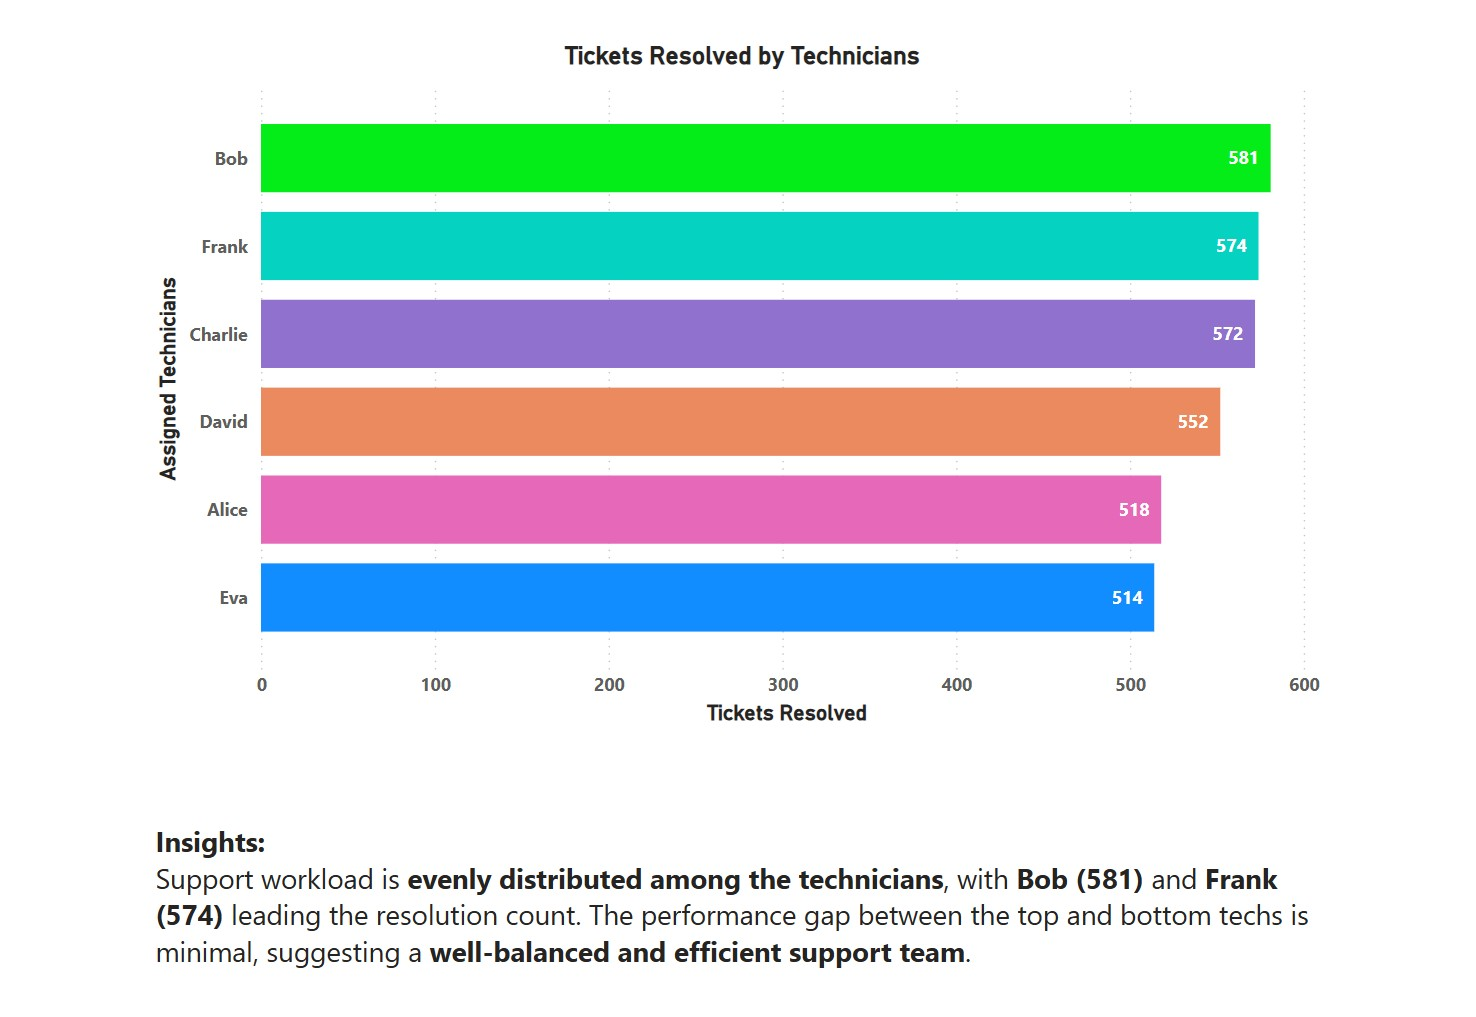

What the dashboard file says about the page in this screenshot:
{"tool":"powerbi","page":{"name":"Tickets Resolved by Technicians","canvas":[1280,720],"ordinal":7},"visuals":[{"type":"barChart","title":"Tickets Resolved by Technicians","fields":{"Category":["tickets_by_tech csv.Assigned_Tech"],"Y":["Sum(tickets_by_tech csv.Tickets_Resolved)"]},"box":[239.1,37.5,802.5,466.1],"z":0},{"type":"textbox","box":[239.1,560.3,802.5,160.1],"z":1}]}

Visuals, with their boxes on the page's 1280x720 design canvas (x1, y1, x2, y2). These are canvas units, not pixel positions in the 1476x1017 screenshot, which may show the page scaled, cropped or inside an application window:
"Tickets Resolved by Technicians" barChart: bbox=(239, 38, 1042, 504)
textbox: bbox=(239, 560, 1042, 720)
